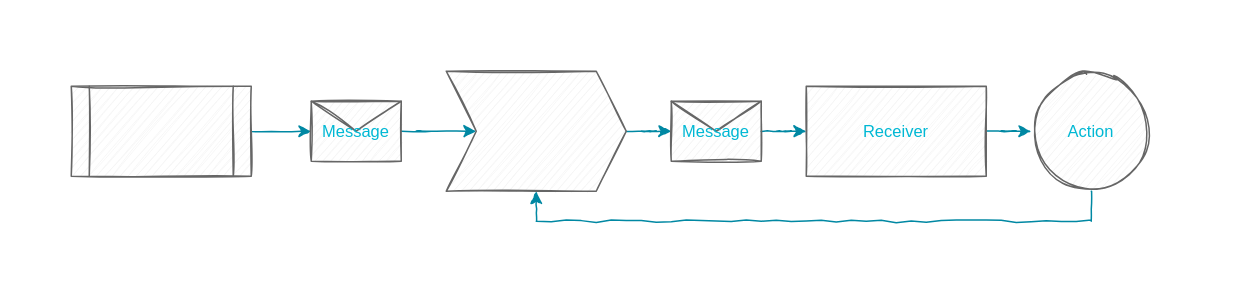
This 1236x306 diagram has some shape labels left out. The shapes that lost their labels are listed below. From the top down, each one's centre as x and y in pixels, then its label:
point 160,130: Producer
point 535,130: Broker
